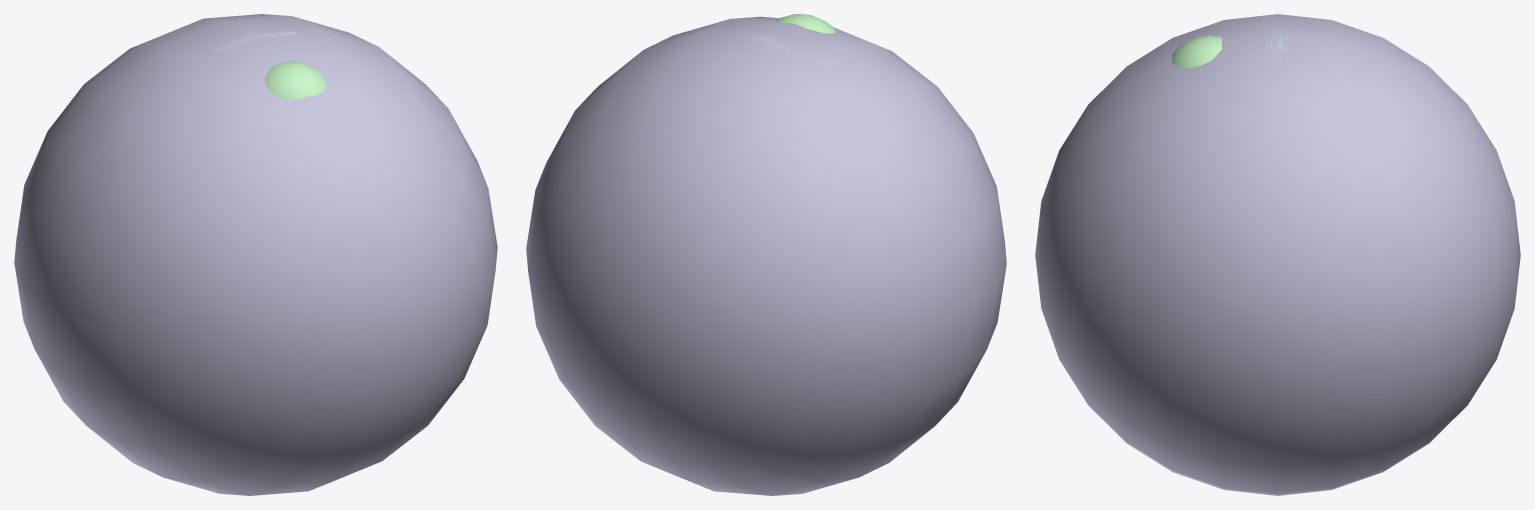
The model's file is ufo.glb.
3 renders of one model, left to right at view 1: azimuth 30°, elevation 25°; view 2: azimuth 150°, elevation 25°; view 3: azimuth 270°, elevation 25°, orthographic.
Visible parts, largest first — view 1: ufo; view 2: ufo; view 3: ufo.
Boxes of the visible parts, x1,y1,x2,y2 form: ufo: (14,14,497,495); ufo: (526,14,1006,495); ufo: (1035,14,1520,495).
Bounding box in the file's own units: 1.8 × 1.8 × 1.8.
